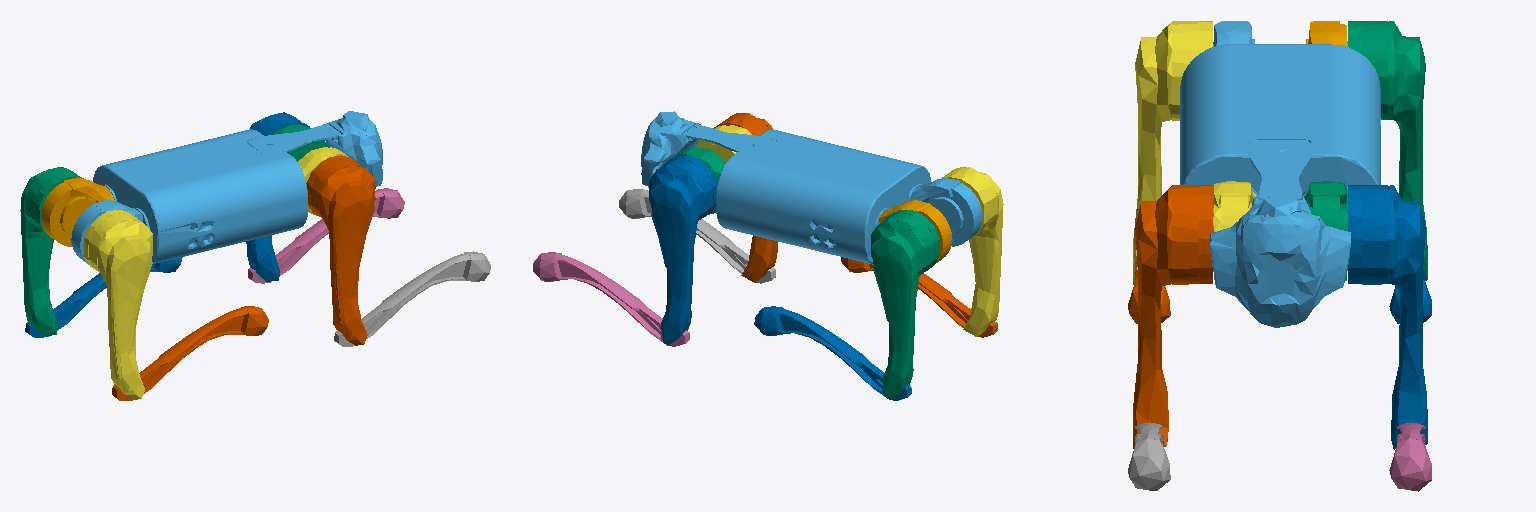
--- Facts derived from the render (not from the file) ---
Views: 3 orthographic renders of the robot side by side, from view 1: azimuth 30°, elevation 25°; view 2: azimuth 150°, elevation 25°; view 3: azimuth 270°, elevation 25°.
Robot: go1 — 31 links, 30 joints (12 revolute, 18 fixed); root link base; default pose: all joints at 0 but 4 set to mid-range because 0 is outside their limits (FR_calf_joint = -1.85, FL_calf_joint = -1.85, RR_calf_joint = -1.85, RL_calf_joint = -1.85).
Links seen in each view (by area): view 1: trunk, RR_thigh, FR_thigh, RL_thigh, FR_calf, RR_calf, RL_hip, FL_calf, FL_thigh, RL_calf, RR_hip, FR_hip (+1 smaller); view 2: trunk, RL_thigh, FL_thigh, RR_thigh, FL_calf, RL_calf, RR_hip, FR_calf, FR_thigh, RR_calf, RL_hip, FL_hip (+1 smaller); view 3: trunk, FL_thigh, FR_thigh, RL_thigh, RR_thigh, FR_calf, FL_calf, FL_hip, FR_hip, RR_hip, RL_hip, RR_calf (+1 smaller).
Link boxes in pixels (x1,y1,x2,y2): trunk: (93, 111, 382, 263); RR_thigh: (84, 210, 152, 399); FR_thigh: (306, 155, 375, 345); RL_thigh: (20, 167, 83, 335); FR_calf: (334, 251, 490, 346); RR_calf: (112, 306, 268, 400); RL_hip: (41, 177, 114, 246); FL_calf: (248, 188, 404, 283); FL_thigh: (246, 112, 310, 281); RL_calf: (25, 257, 182, 337); RR_hip: (71, 200, 142, 264); FR_hip: (298, 147, 348, 215); trunk: (641, 111, 930, 264); RL_thigh: (871, 210, 939, 399); FL_thigh: (649, 156, 716, 345); RR_thigh: (941, 167, 1003, 336); FL_calf: (533, 252, 689, 346); RL_calf: (754, 306, 911, 400); RR_hip: (910, 178, 982, 246); FR_calf: (619, 189, 775, 283); FR_thigh: (713, 113, 777, 282); RR_calf: (841, 257, 997, 337); RL_hip: (879, 200, 951, 262); FL_hip: (674, 147, 725, 214); trunk: (1180, 44, 1380, 327); FL_thigh: (1348, 185, 1427, 449); FR_thigh: (1133, 185, 1212, 448); RL_thigh: (1348, 21, 1427, 280); RR_thigh: (1133, 21, 1212, 284); FR_calf: (1128, 423, 1170, 490); FL_calf: (1389, 423, 1431, 491); FL_hip: (1304, 181, 1347, 280); FR_hip: (1213, 181, 1258, 279); RR_hip: (1213, 21, 1254, 46); RL_hip: (1306, 21, 1347, 46); RR_calf: (1128, 262, 1170, 323).
Bounding box of the posed robot: 0.6505 × 0.2952 × 0.302 m (x, y, z).
Meshes: 5 distinct files referenced, 13 mesh visuals loaded (5 Collada DAE).

robot.urdf — go1:
<?xml version="1.0" ?>
<!-- source: https://github.com/unitreerobotics/unitree_ros/tree/master/robots/go1_description/urdf
=================================================================================== -->
<!-- |    This document was autogenerated by xacro from robot.xacro                    | -->
<!-- |    EDITING THIS FILE BY HAND IS NOT RECOMMENDED                                 | -->
<!-- =================================================================================== -->
<robot name="go1">
  <material name="black">
    <color rgba="0.0 0.0 0.0 1.0"/>
  </material>
  <material name="blue">
    <color rgba="0.0 0.0 0.8 1.0"/>
  </material>
  <material name="green">
    <color rgba="0.0 0.8 0.0 1.0"/>
  </material>
  <material name="grey">
    <color rgba="0.2 0.2 0.2 1.0"/>
  </material>
  <material name="silver">
    <color rgba="0.9137254901960784 0.9137254901960784 0.8470588235294118 1.0"/>
  </material>
  <material name="orange">
    <color rgba="1.0 0.4235294117647059 0.0392156862745098 1.0"/>
  </material>
  <material name="brown">
    <color rgba="0.8705882352941177 0.8117647058823529 0.7647058823529411 1.0"/>
  </material>
  <material name="red">
    <color rgba="0.8 0.0 0.0 1.0"/>
  </material>
  <material name="white">
    <color rgba="1.0 1.0 1.0 1.0"/>
  </material>

<!--Flo: removed the Gazebo-related section here-->

  <link name="base">
    <visual>
      <origin rpy="0 0 0" xyz="0 0 0"/>
      <geometry>
        <box size="0.001 0.001 0.001"/>
      </geometry>
    </visual>
  </link>
  <joint name="floating_base" type="fixed">
    <origin rpy="0 0 0" xyz="0 0 0"/>
    <parent link="base"/>
    <child link="trunk"/>
  </joint>
  <link name="trunk">
    <visual>
      <origin rpy="0 0 0" xyz="0 0 0"/>
      <geometry>
        <mesh filename="../meshes/trunk.dae" scale="1 1 1"/>
      </geometry>
      <!-- <material name="orange"/> -->
    </visual>
    <collision>
      <origin rpy="0 0 0" xyz="0 0 0"/>
      <geometry>
        <box size="0.3762 0.0935 0.114"/>
      </geometry>
    </collision>
    <inertial>
      <origin rpy="0 0 0" xyz="0.0223 0.002 -0.0005"/>
      <mass value="5.204"/>
      <inertia ixx="0.0168128557" ixy="-0.0002296769" ixz="-0.0002945293" iyy="0.063009565" iyz="-4.18731e-05" izz="0.0716547275"/>
    </inertial>
  </link>
  <joint name="imu_joint" type="fixed">
    <parent link="trunk"/>
    <child link="imu_link"/>
    <origin rpy="0 0 0" xyz="-0.01592 -0.06659 -0.00617"/>
  </joint>
  <link name="imu_link">
    <inertial>
      <mass value="0.001"/>
      <origin rpy="0 0 0" xyz="0 0 0"/>
      <inertia ixx="0.0001" ixy="0" ixz="0" iyy="0.0001" iyz="0" izz="0.0001"/>
    </inertial>
    <visual>
      <origin rpy="0 0 0" xyz="0 0 0"/>
      <geometry>
        <box size="0.001 0.001 0.001"/>
      </geometry>
      <!-- <material name="red"/> -->
    </visual>
    <collision>
      <origin rpy="0 0 0" xyz="0 0 0"/>
      <geometry>
        <box size=".001 .001 .001"/>
      </geometry>
    </collision>
  </link>
  <joint name="FR_hip_joint" type="revolute">
    <origin rpy="0 0 0" xyz="0.1881 -0.04675 0"/>
    <parent link="trunk"/>
    <child link="FR_hip"/>
    <axis xyz="1 0 0"/>
    <dynamics damping="0.01" friction="0.2"/>
    <limit effort="23.7" lower="-0.863" upper="0.863" velocity="30.1"/>
  </joint>
  <joint name="FR_hip_rotor_joint" type="fixed">
    <origin rpy="0 0 0" xyz="0.11215 -0.04675 0"/>
    <parent link="trunk"/>
    <child link="FR_hip_rotor"/>
  </joint>
  <link name="FR_hip">
    <visual>
      <origin rpy="3.141592653589793 0 0" xyz="0 0 0"/>
      <geometry>
        <mesh filename="../meshes/hip.dae" scale="1 1 1"/>
      </geometry>
      <!-- <material name="orange"/> -->
    </visual>
    <collision>
      <origin rpy="1.5707963267948966 0 0" xyz="0 -0.08 0"/>
      <geometry>
        <cylinder length="0.04" radius="0.046"/>
      </geometry>
    </collision>
    <inertial>
      <origin rpy="0 0 0" xyz="-0.005657 0.008752 -0.000102"/>
      <mass value="0.591"/>
      <inertia ixx="0.000334008405" ixy="1.0826066e-05" ixz="1.290732e-06" iyy="0.000619101213" iyz="-1.643194e-06" izz="0.00040057614"/>
    </inertial>
  </link>
  <link name="FR_hip_rotor">
    <visual>
      <origin rpy="0 1.5707963267948966 0" xyz="0 0 0"/>
      <geometry>
        <cylinder length="0.02" radius="0.035"/>
      </geometry>
      <material name="green"/>
    </visual>
    <collision>
      <origin rpy="0 1.5707963267948966 0" xyz="0 0 0"/>
      <geometry>
        <cylinder length="0.02" radius="0.035"/>
      </geometry>
    </collision>
    <inertial>
      <origin rpy="0 0 0" xyz="0.0 0.0 0.0"/>
      <mass value="0.089"/>
      <inertia ixx="0.000111842" ixy="0.0" ixz="0.0" iyy="5.9647e-05" iyz="0.0" izz="5.9647e-05"/>
    </inertial>
  </link>
  <joint name="FR_thigh_joint" type="revolute">
    <origin rpy="0 0 0" xyz="0 -0.08 0"/>
    <parent link="FR_hip"/>
    <child link="FR_thigh"/>
    <axis xyz="0 1 0"/>
    <dynamics damping="0.01" friction="0.2"/>
    <limit effort="23.7" lower="-0.686" upper="4.501" velocity="30.1"/>
  </joint>
  <joint name="FR_thigh_rotor_joint" type="fixed">
    <origin rpy="0 0 0" xyz="0.0 0.00015 0"/>
    <parent link="FR_hip"/>
    <child link="FR_thigh_rotor"/>
  </joint>
  <link name="FR_thigh">
    <visual>
      <origin rpy="0 0 0" xyz="0 0 0"/>
      <geometry>
        <mesh filename="../meshes/thigh_mirror.dae" scale="1 1 1"/>
      </geometry>
      <!-- <material name="orange"/> -->
    </visual>
    <collision>
      <origin rpy="0 1.5707963267948966 0" xyz="0 0 -0.1065"/>
      <geometry>
        <box size="0.213 0.0245 0.034"/>
      </geometry>
    </collision>
    <inertial>
      <origin rpy="0 0 0" xyz="-0.003342 0.018054 -0.033451"/>
      <mass value="0.92"/>
      <inertia ixx="0.004431760472" ixy="-5.7496807e-05" ixz="-0.000218457134" iyy="0.004485671726" iyz="-0.000572001265" izz="0.000740309489"/>
    </inertial>
  </link>
  <link name="FR_thigh_rotor">
    <visual>
      <origin rpy="1.5707963267948966 0 0" xyz="0 0 0"/>
      <geometry>
        <cylinder length="0.02" radius="0.035"/>
      </geometry>
      <material name="green"/>
    </visual>
    <collision>
      <origin rpy="1.5707963267948966 0 0" xyz="0 0 0"/>
      <geometry>
        <cylinder length="0.02" radius="0.035"/>
      </geometry>
    </collision>
    <inertial>
      <origin rpy="0 0 0" xyz="0.0 0.0 0.0"/>
      <mass value="0.089"/>
      <inertia ixx="5.9647e-05" ixy="0.0" ixz="0.0" iyy="0.000111842" iyz="0.0" izz="5.9647e-05"/>
    </inertial>
  </link>
  <joint name="FR_calf_joint" type="revolute">
    <origin rpy="0 0 0" xyz="0 0 -0.213"/>
    <parent link="FR_thigh"/>
    <child link="FR_calf"/>
    <axis xyz="0 1 0"/>
    <dynamics damping="0.01" friction="0.2"/>
    <limit effort="35.55" lower="-2.818" upper="-0.888" velocity="20.06"/>
  </joint>
  <joint name="FR_calf_rotor_joint" type="fixed">
    <origin rpy="0 0 0" xyz="0.0 0.03235 0"/>
    <parent link="FR_thigh"/>
    <child link="FR_calf_rotor"/>
  </joint>
  <link name="FR_calf">
    <visual>
      <origin rpy="0 0 0" xyz="0 0 0"/>
      <geometry>
        <mesh filename="../meshes/calf.dae" scale="1 1 1"/>
      </geometry>
      <!-- <material name="orange"/> -->
    </visual>
    <collision>
      <origin rpy="0 1.5707963267948966 0" xyz="0 0 -0.1065"/>
      <geometry>
        <box size="0.213 0.016 0.016"/>
      </geometry>
    </collision>
    <inertial>
      <origin rpy="0 0 0" xyz="0.006197 0.001408 -0.116695"/>
      <mass value="0.135862"/>
      <inertia ixx="0.001088793059" ixy="-2.55679e-07" ixz="7.117814e-06" iyy="0.001100428748" iyz="2.077264e-06" izz="2.4787446e-05"/>
    </inertial>
  </link>
  <link name="FR_calf_rotor">
    <visual>
      <origin rpy="1.5707963267948966 0 0" xyz="0 0 0"/>
      <geometry>
        <cylinder length="0.02" radius="0.035"/>
      </geometry>
      <material name="green"/>
    </visual>
    <collision>
      <origin rpy="1.5707963267948966 0 0" xyz="0 0 0"/>
      <geometry>
        <cylinder length="0.02" radius="0.035"/>
      </geometry>
    </collision>
    <inertial>
      <origin rpy="0 0 0" xyz="0.0 0.0 0.0"/>
      <mass value="0.089"/>
      <inertia ixx="5.9647e-05" ixy="0.0" ixz="0.0" iyy="0.000111842" iyz="0.0" izz="5.9647e-05"/>
    </inertial>
  </link>
  <joint name="FR_foot_fixed" type="fixed">
    <origin rpy="0 0 0" xyz="0 0 -0.213"/>
    <parent link="FR_calf"/>
    <child link="FR_foot"/>
  </joint>
  <link name="FR_foot">
    <visual>
      <origin rpy="0 0 0" xyz="0 0 0"/>
      <geometry>
        <sphere radius="0.01"/>
      </geometry>
      <!-- <material name="orange"/> -->
    </visual>
    <collision>
      <origin rpy="0 0 0" xyz="0 0 0"/>
      <geometry>
        <sphere radius="0.02"/>
      </geometry>
    </collision>
    <inertial>
      <mass value="0.06"/>
      <inertia ixx="9.600000000000001e-06" ixy="0.0" ixz="0.0" iyy="9.600000000000001e-06" iyz="0.0" izz="9.600000000000001e-06"/>
    </inertial>
  </link>
  <transmission name="FR_hip_tran">
    <type>transmission_interface/SimpleTransmission</type>
    <joint name="FR_hip_joint">
      <hardwareInterface>hardware_interface/EffortJointInterface</hardwareInterface>
    </joint>
    <actuator name="FR_hip_motor">
      <hardwareInterface>hardware_interface/EffortJointInterface</hardwareInterface>
      <mechanicalReduction>1</mechanicalReduction>
    </actuator>
  </transmission>
  <transmission name="FR_thigh_tran">
    <type>transmission_interface/SimpleTransmission</type>
    <joint name="FR_thigh_joint">
      <hardwareInterface>hardware_interface/EffortJointInterface</hardwareInterface>
    </joint>
    <actuator name="FR_thigh_motor">
      <hardwareInterface>hardware_interface/EffortJointInterface</hardwareInterface>
      <mechanicalReduction>1</mechanicalReduction>
    </actuator>
  </transmission>
  <transmission name="FR_calf_tran">
    <type>transmission_interface/SimpleTransmission</type>
    <joint name="FR_calf_joint">
      <hardwareInterface>hardware_interface/EffortJointInterface</hardwareInterface>
    </joint>
    <actuator name="FR_calf_motor">
      <hardwareInterface>hardware_interface/EffortJointInterface</hardwareInterface>
      <mechanicalReduction>1</mechanicalReduction>
    </actuator>
  </transmission>
  <joint name="FL_hip_joint" type="revolute">
    <origin rpy="0 0 0" xyz="0.1881 0.04675 0"/>
    <parent link="trunk"/>
    <child link="FL_hip"/>
    <axis xyz="1 0 0"/>
    <dynamics damping="0.01" friction="0.2"/>
    <limit effort="23.7" lower="-0.863" upper="0.863" velocity="30.1"/>
  </joint>
  <joint name="FL_hip_rotor_joint" type="fixed">
    <origin rpy="0 0 0" xyz="0.11215 0.04675 0"/>
    <parent link="trunk"/>
    <child link="FL_hip_rotor"/>
  </joint>
  <link name="FL_hip">
    <visual>
      <origin rpy="0 0 0" xyz="0 0 0"/>
      <geometry>
        <mesh filename="../meshes/hip.dae" scale="1 1 1"/>
      </geometry>
      <!-- <material name="orange"/> -->
    </visual>
    <collision>
      <origin rpy="1.5707963267948966 0 0" xyz="0 0.08 0"/>
      <geometry>
        <cylinder length="0.04" radius="0.046"/>
      </geometry>
    </collision>
    <inertial>
      <origin rpy="0 0 0" xyz="-0.005657 -0.008752 -0.000102"/>
      <mass value="0.591"/>
      <inertia ixx="0.000334008405" ixy="-1.0826066e-05" ixz="1.290732e-06" iyy="0.000619101213" iyz="1.643194e-06" izz="0.00040057614"/>
    </inertial>
  </link>
  <link name="FL_hip_rotor">
    <visual>
      <origin rpy="0 1.5707963267948966 0" xyz="0 0 0"/>
      <geometry>
        <cylinder length="0.02" radius="0.035"/>
      </geometry>
      <material name="green"/>
    </visual>
    <collision>
      <origin rpy="0 1.5707963267948966 0" xyz="0 0 0"/>
      <geometry>
        <cylinder length="0.02" radius="0.035"/>
      </geometry>
    </collision>
    <inertial>
      <origin rpy="0 0 0" xyz="0.0 0.0 0.0"/>
      <mass value="0.089"/>
      <inertia ixx="0.000111842" ixy="0.0" ixz="0.0" iyy="5.9647e-05" iyz="0.0" izz="5.9647e-05"/>
    </inertial>
  </link>
  <joint name="FL_thigh_joint" type="revolute">
    <origin rpy="0 0 0" xyz="0 0.08 0"/>
    <parent link="FL_hip"/>
    <child link="FL_thigh"/>
    <axis xyz="0 1 0"/>
    <dynamics damping="0.01" friction="0.2"/>
    <limit effort="23.7" lower="-0.686" upper="4.501" velocity="30.1"/>
  </joint>
  <joint name="FL_thigh_rotor_joint" type="fixed">
    <origin rpy="0 0 0" xyz="0.0 -0.00015 0"/>
    <parent link="FL_hip"/>
    <child link="FL_thigh_rotor"/>
  </joint>
  <link name="FL_thigh">
    <visual>
      <origin rpy="0 0 0" xyz="0 0 0"/>
      <geometry>
        <mesh filename="../meshes/thigh.dae" scale="1 1 1"/>
      </geometry>
      <!-- <material name="orange"/> -->
    </visual>
    <collision>
      <origin rpy="0 1.5707963267948966 0" xyz="0 0 -0.1065"/>
      <geometry>
        <box size="0.213 0.0245 0.034"/>
      </geometry>
    </collision>
    <inertial>
      <origin rpy="0 0 0" xyz="-0.003342 -0.018054 -0.033451"/>
      <mass value="0.92"/>
      <inertia ixx="0.004431760472" ixy="5.7496807e-05" ixz="-0.000218457134" iyy="0.004485671726" iyz="0.000572001265" izz="0.000740309489"/>
    </inertial>
  </link>
  <link name="FL_thigh_rotor">
    <visual>
      <origin rpy="1.5707963267948966 0 0" xyz="0 0 0"/>
      <geometry>
        <cylinder length="0.02" radius="0.035"/>
      </geometry>
      <material name="green"/>
    </visual>
    <collision>
      <origin rpy="1.5707963267948966 0 0" xyz="0 0 0"/>
      <geometry>
        <cylinder length="0.02" radius="0.035"/>
      </geometry>
    </collision>
    <inertial>
      <origin rpy="0 0 0" xyz="0.0 0.0 0.0"/>
      <mass value="0.089"/>
      <inertia ixx="5.9647e-05" ixy="0.0" ixz="0.0" iyy="0.000111842" iyz="0.0" izz="5.9647e-05"/>
    </inertial>
  </link>
  <joint name="FL_calf_joint" type="revolute">
    <origin rpy="0 0 0" xyz="0 0 -0.213"/>
    <parent link="FL_thigh"/>
    <child link="FL_calf"/>
    <axis xyz="0 1 0"/>
    <dynamics damping="0.01" friction="0.2"/>
    <limit effort="35.55" lower="-2.818" upper="-0.888" velocity="20.06"/>
  </joint>
  <joint name="FL_calf_rotor_joint" type="fixed">
    <origin rpy="0 0 0" xyz="0.0 -0.03235 0"/>
    <parent link="FL_thigh"/>
    <child link="FL_calf_rotor"/>
  </joint>
  <link name="FL_calf">
    <visual>
      <origin rpy="0 0 0" xyz="0 0 0"/>
      <geometry>
        <mesh filename="../meshes/calf.dae" scale="1 1 1"/>
      </geometry>
      <!-- <material name="orange"/> -->
    </visual>
    <collision>
      <origin rpy="0 1.5707963267948966 0" xyz="0 0 -0.1065"/>
      <geometry>
        <box size="0.213 0.016 0.016"/>
      </geometry>
    </collision>
    <inertial>
      <origin rpy="0 0 0" xyz="0.006197 0.001408 -0.116695"/>
      <mass value="0.135862"/>
      <inertia ixx="0.001088793059" ixy="-2.55679e-07" ixz="7.117814e-06" iyy="0.001100428748" iyz="2.077264e-06" izz="2.4787446e-05"/>
    </inertial>
  </link>
  <link name="FL_calf_rotor">
    <visual>
      <origin rpy="1.5707963267948966 0 0" xyz="0 0 0"/>
      <geometry>
        <cylinder length="0.02" radius="0.035"/>
      </geometry>
      <material name="green"/>
    </visual>
    <collision>
      <origin rpy="1.5707963267948966 0 0" xyz="0 0 0"/>
      <geometry>
        <cylinder length="0.02" radius="0.035"/>
      </geometry>
    </collision>
    <inertial>
      <origin rpy="0 0 0" xyz="0.0 0.0 0.0"/>
      <mass value="0.089"/>
      <inertia ixx="5.9647e-05" ixy="0.0" ixz="0.0" iyy="0.000111842" iyz="0.0" izz="5.9647e-05"/>
    </inertial>
  </link>
  <joint name="FL_foot_fixed" type="fixed">
    <origin rpy="0 0 0" xyz="0 0 -0.213"/>
    <parent link="FL_calf"/>
    <child link="FL_foot"/>
  </joint>
  <link name="FL_foot">
    <visual>
      <origin rpy="0 0 0" xyz="0 0 0"/>
      <geometry>
        <sphere radius="0.01"/>
      </geometry>
      <!-- <material name="orange"/> -->
    </visual>
    <collision>
      <origin rpy="0 0 0" xyz="0 0 0"/>
      <geometry>
        <sphere radius="0.02"/>
      </geometry>
    </collision>
    <inertial>
      <mass value="0.06"/>
      <inertia ixx="9.600000000000001e-06" ixy="0.0" ixz="0.0" iyy="9.600000000000001e-06" iyz="0.0" izz="9.600000000000001e-06"/>
    </inertial>
  </link>
  <transmission name="FL_hip_tran">
    <type>transmission_interface/SimpleTransmission</type>
    <joint name="FL_hip_joint">
      <hardwareInterface>hardware_interface/EffortJointInterface</hardwareInterface>
    </joint>
    <actuator name="FL_hip_motor">
      <hardwareInterface>hardware_interface/EffortJointInterface</hardwareInterface>
      <mechanicalReduction>1</mechanicalReduction>
    </actuator>
  </transmission>
  <transmission name="FL_thigh_tran">
    <type>transmission_interface/SimpleTransmission</type>
    <joint name="FL_thigh_joint">
      <hardwareInterface>hardware_interface/EffortJointInterface</hardwareInterface>
    </joint>
    <actuator name="FL_thigh_motor">
      <hardwareInterface>hardware_interface/EffortJointInterface</hardwareInterface>
      <mechanicalReduction>1</mechanicalReduction>
    </actuator>
  </transmission>
  <transmission name="FL_calf_tran">
    <type>transmission_interface/SimpleTransmission</type>
    <joint name="FL_calf_joint">
      <hardwareInterface>hardware_interface/EffortJointInterface</hardwareInterface>
    </joint>
    <actuator name="FL_calf_motor">
      <hardwareInterface>hardware_interface/EffortJointInterface</hardwareInterface>
      <mechanicalReduction>1</mechanicalReduction>
    </actuator>
  </transmission>
  <joint name="RR_hip_joint" type="revolute">
    <origin rpy="0 0 0" xyz="-0.1881 -0.04675 0"/>
    <parent link="trunk"/>
    <child link="RR_hip"/>
    <axis xyz="1 0 0"/>
    <dynamics damping="0.01" friction="0.2"/>
    <limit effort="23.7" lower="-0.863" upper="0.863" velocity="30.1"/>
  </joint>
  <joint name="RR_hip_rotor_joint" type="fixed">
    <origin rpy="0 0 0" xyz="-0.11215 -0.04675 0"/>
    <parent link="trunk"/>
    <child link="RR_hip_rotor"/>
  </joint>
  <link name="RR_hip">
    <visual>
      <origin rpy="3.141592653589793 3.141592653589793 0" xyz="0 0 0"/>
      <geometry>
        <mesh filename="../meshes/hip.dae" scale="1 1 1"/>
      </geometry>
      <!-- <material name="orange"/> -->
    </visual>
    <collision>
      <origin rpy="1.5707963267948966 0 0" xyz="0 -0.08 0"/>
      <geometry>
        <cylinder length="0.04" radius="0.046"/>
      </geometry>
    </collision>
    <inertial>
      <origin rpy="0 0 0" xyz="0.005657 0.008752 -0.000102"/>
      <mass value="0.591"/>
      <inertia ixx="0.000334008405" ixy="-1.0826066e-05" ixz="-1.290732e-06" iyy="0.000619101213" iyz="-1.643194e-06" izz="0.00040057614"/>
    </inertial>
  </link>
  <link name="RR_hip_rotor">
    <visual>
      <origin rpy="0 1.5707963267948966 0" xyz="0 0 0"/>
      <geometry>
        <cylinder length="0.02" radius="0.035"/>
      </geometry>
      <material name="green"/>
    </visual>
    <collision>
      <origin rpy="0 1.5707963267948966 0" xyz="0 0 0"/>
      <geometry>
        <cylinder length="0.02" radius="0.035"/>
      </geometry>
    </collision>
    <inertial>
      <origin rpy="0 0 0" xyz="0.0 0.0 0.0"/>
      <mass value="0.089"/>
      <inertia ixx="0.000111842" ixy="0.0" ixz="0.0" iyy="5.9647e-05" iyz="0.0" izz="5.9647e-05"/>
    </inertial>
  </link>
  <joint name="RR_thigh_joint" type="revolute">
    <origin rpy="0 0 0" xyz="0 -0.08 0"/>
    <parent link="RR_hip"/>
    <child link="RR_thigh"/>
    <axis xyz="0 1 0"/>
    <dynamics damping="0.01" friction="0.2"/>
    <limit effort="23.7" lower="-0.686" upper="4.501" velocity="30.1"/>
  </joint>
  <joint name="RR_thigh_rotor_joint" type="fixed">
    <origin rpy="0 0 0" xyz="0.0 0.00015 0"/>
    <parent link="RR_hip"/>
    <child link="RR_thigh_rotor"/>
  </joint>
  <link name="RR_thigh">
    <visual>
      <origin rpy="0 0 0" xyz="0 0 0"/>
      <geometry>
        <mesh filename="../meshes/thigh_mirror.dae" scale="1 1 1"/>
      </geometry>
      <!-- <material name="orange"/> -->
    </visual>
    <collision>
      <origin rpy="0 1.5707963267948966 0" xyz="0 0 -0.1065"/>
      <geometry>
        <box size="0.213 0.0245 0.034"/>
      </geometry>
    </collision>
    <inertial>
      <origin rpy="0 0 0" xyz="-0.003342 0.018054 -0.033451"/>
      <mass value="0.92"/>
      <inertia ixx="0.004431760472" ixy="-5.7496807e-05" ixz="-0.000218457134" iyy="0.004485671726" iyz="-0.000572001265" izz="0.000740309489"/>
    </inertial>
  </link>
  <link name="RR_thigh_rotor">
    <visual>
      <origin rpy="1.5707963267948966 0 0" xyz="0 0 0"/>
      <geometry>
        <cylinder length="0.02" radius="0.035"/>
      </geometry>
      <material name="green"/>
    </visual>
    <collision>
      <origin rpy="1.5707963267948966 0 0" xyz="0 0 0"/>
      <geometry>
        <cylinder length="0.02" radius="0.035"/>
      </geometry>
    </collision>
    <inertial>
      <origin rpy="0 0 0" xyz="0.0 0.0 0.0"/>
      <mass value="0.089"/>
      <inertia ixx="5.9647e-05" ixy="0.0" ixz="0.0" iyy="0.000111842" iyz="0.0" izz="5.9647e-05"/>
    </inertial>
  </link>
  <joint name="RR_calf_joint" type="revolute">
    <origin rpy="0 0 0" xyz="0 0 -0.213"/>
    <parent link="RR_thigh"/>
    <child link="RR_calf"/>
    <axis xyz="0 1 0"/>
    <dynamics damping="0.01" friction="0.2"/>
    <limit effort="35.55" lower="-2.818" upper="-0.888" velocity="20.06"/>
  </joint>
  <joint name="RR_calf_rotor_joint" type="fixed">
    <origin rpy="0 0 0" xyz="0.0 0.03235 0"/>
    <parent link="RR_thigh"/>
    <child link="RR_calf_rotor"/>
  </joint>
  <link name="RR_calf">
    <visual>
      <origin rpy="0 0 0" xyz="0 0 0"/>
      <geometry>
        <mesh filename="../meshes/calf.dae" scale="1 1 1"/>
      </geometry>
      <!-- <material name="orange"/> -->
    </visual>
    <collision>
      <origin rpy="0 1.5707963267948966 0" xyz="0 0 -0.1065"/>
      <geometry>
        <box size="0.213 0.016 0.016"/>
      </geometry>
    </collision>
    <inertial>
      <origin rpy="0 0 0" xyz="0.006197 0.001408 -0.116695"/>
      <mass value="0.135862"/>
      <inertia ixx="0.001088793059" ixy="-2.55679e-07" ixz="7.117814e-06" iyy="0.001100428748" iyz="2.077264e-06" izz="2.4787446e-05"/>
    </inertial>
  </link>
  <link name="RR_calf_rotor">
    <visual>
      <origin rpy="1.5707963267948966 0 0" xyz="0 0 0"/>
      <geometry>
        <cylinder length="0.02" radius="0.035"/>
      </geometry>
      <material name="green"/>
    </visual>
    <collision>
      <origin rpy="1.5707963267948966 0 0" xyz="0 0 0"/>
      <geometry>
        <cylinder length="0.02" radius="0.035"/>
      </geometry>
    </collision>
    <inertial>
      <origin rpy="0 0 0" xyz="0.0 0.0 0.0"/>
      <mass value="0.089"/>
      <inertia ixx="5.9647e-05" ixy="0.0" ixz="0.0" iyy="0.000111842" iyz="0.0" izz="5.9647e-05"/>
    </inertial>
  </link>
  <joint name="RR_foot_fixed" type="fixed">
    <origin rpy="0 0 0" xyz="0 0 -0.213"/>
    <parent link="RR_calf"/>
    <child link="RR_foot"/>
  </joint>
  <link name="RR_foot">
    <visual>
      <origin rpy="0 0 0" xyz="0 0 0"/>
      <geometry>
        <sphere radius="0.01"/>
      </geometry>
      <!-- <material name="orange"/> -->
    </visual>
    <collision>
      <origin rpy="0 0 0" xyz="0 0 0"/>
      <geometry>
        <sphere radius="0.02"/>
      </geometry>
    </collision>
    <inertial>
      <mass value="0.06"/>
      <inertia ixx="9.600000000000001e-06" ixy="0.0" ixz="0.0" iyy="9.600000000000001e-06" iyz="0.0" izz="9.600000000000001e-06"/>
    </inertial>
  </link>
  <transmission name="RR_hip_tran">
    <type>transmission_interface/SimpleTransmission</type>
    <joint name="RR_hip_joint">
      <hardwareInterface>hardware_interface/EffortJointInterface</hardwareInterface>
    </joint>
    <actuator name="RR_hip_motor">
      <hardwareInterface>hardware_interface/EffortJointInterface</hardwareInterface>
      <mechanicalReduction>1</mechanicalReduction>
    </actuator>
  </transmission>
  <transmission name="RR_thigh_tran">
    <type>transmission_interface/SimpleTransmission</type>
    <joint name="RR_thigh_joint">
      <hardwareInterface>hardware_interface/EffortJointInterface</hardwareInterface>
    </joint>
    <actuator name="RR_thigh_motor">
      <hardwareInterface>hardware_interface/EffortJointInterface</hardwareInterface>
      <mechanicalReduction>1</mechanicalReduction>
    </actuator>
  </transmission>
  <transmission name="RR_calf_tran">
    <type>transmission_interface/SimpleTransmission</type>
    <joint name="RR_calf_joint">
      <hardwareInterface>hardware_interface/EffortJointInterface</hardwareInterface>
    </joint>
    <actuator name="RR_calf_motor">
      <hardwareInterface>hardware_interface/EffortJointInterface</hardwareInterface>
      <mechanicalReduction>1</mechanicalReduction>
    </actuator>
  </transmission>
  <joint name="RL_hip_joint" type="revolute">
    <origin rpy="0 0 0" xyz="-0.1881 0.04675 0"/>
    <parent link="trunk"/>
    <child link="RL_hip"/>
    <axis xyz="1 0 0"/>
    <dynamics damping="0.01" friction="0.2"/>
    <limit effort="23.7" lower="-0.863" upper="0.863" velocity="30.1"/>
  </joint>
  <joint name="RL_hip_rotor_joint" type="fixed">
    <origin rpy="0 0 0" xyz="-0.11215 0.04675 0"/>
    <parent link="trunk"/>
    <child link="RL_hip_rotor"/>
  </joint>
  <link name="RL_hip">
    <visual>
      <origin rpy="0 3.141592653589793 0" xyz="0 0 0"/>
      <geometry>
        <mesh filename="../meshes/hip.dae" scale="1 1 1"/>
      </geometry>
      <!-- <material name="orange"/> -->
    </visual>
    <collision>
      <origin rpy="1.5707963267948966 0 0" xyz="0 0.08 0"/>
      <geometry>
        <cylinder length="0.04" radius="0.046"/>
      </geometry>
    </collision>
    <inertial>
      <origin rpy="0 0 0" xyz="0.005657 -0.008752 -0.000102"/>
      <mass value="0.591"/>
      <inertia ixx="0.000334008405" ixy="1.0826066e-05" ixz="-1.290732e-06" iyy="0.000619101213" iyz="1.643194e-06" izz="0.00040057614"/>
    </inertial>
  </link>
  <link name="RL_hip_rotor">
    <visual>
      <origin rpy="0 1.5707963267948966 0" xyz="0 0 0"/>
      <geometry>
        <cylinder length="0.02" radius="0.035"/>
      </geometry>
      <material name="green"/>
    </visual>
    <collision>
      <origin rpy="0 1.5707963267948966 0" xyz="0 0 0"/>
      <geometry>
        <cylinder length="0.02" radius="0.035"/>
      </geometry>
    </collision>
    <inertial>
      <origin rpy="0 0 0" xyz="0.0 0.0 0.0"/>
      <mass value="0.089"/>
      <inertia ixx="0.000111842" ixy="0.0" ixz="0.0" iyy="5.9647e-05" iyz="0.0" izz="5.9647e-05"/>
    </inertial>
  </link>
  <joint name="RL_thigh_joint" type="revolute">
    <origin rpy="0 0 0" xyz="0 0.08 0"/>
    <parent link="RL_hip"/>
    <child link="RL_thigh"/>
    <axis xyz="0 1 0"/>
    <dynamics damping="0.01" friction="0.2"/>
    <limit effort="23.7" lower="-0.686" upper="4.501" velocity="30.1"/>
  </joint>
  <joint name="RL_thigh_rotor_joint" type="fixed">
    <origin rpy="0 0 0" xyz="0.0 -0.00015 0"/>
    <parent link="RL_hip"/>
    <child link="RL_thigh_rotor"/>
  </joint>
  <link name="RL_thigh">
    <visual>
      <origin rpy="0 0 0" xyz="0 0 0"/>
      <geometry>
        <mesh filename="../meshes/thigh.dae" scale="1 1 1"/>
      </geometry>
      <!-- <material name="orange"/> -->
    </visual>
    <collision>
      <origin rpy="0 1.5707963267948966 0" xyz="0 0 -0.1065"/>
      <geometry>
        <box size="0.213 0.0245 0.034"/>
      </geometry>
    </collision>
    <inertial>
      <origin rpy="0 0 0" xyz="-0.003342 -0.018054 -0.033451"/>
      <mass value="0.92"/>
      <inertia ixx="0.004431760472" ixy="5.7496807e-05" ixz="-0.000218457134" iyy="0.004485671726" iyz="0.000572001265" izz="0.000740309489"/>
    </inertial>
  </link>
  <link name="RL_thigh_rotor">
    <visual>
      <origin rpy="1.5707963267948966 0 0" xyz="0 0 0"/>
      <geometry>
        <cylinder length="0.02" radius="0.035"/>
      </geometry>
      <material name="green"/>
    </visual>
    <collision>
      <origin rpy="1.5707963267948966 0 0" xyz="0 0 0"/>
      <geometry>
        <cylinder length="0.02" radius="0.035"/>
      </geometry>
    </collision>
    <inertial>
      <origin rpy="0 0 0" xyz="0.0 0.0 0.0"/>
      <mass value="0.089"/>
      <inertia ixx="5.9647e-05" ixy="0.0" ixz="0.0" iyy="0.000111842" iyz="0.0" izz="5.9647e-05"/>
    </inertial>
  </link>
  <joint name="RL_calf_joint" type="revolute">
    <origin rpy="0 0 0" xyz="0 0 -0.213"/>
    <parent link="RL_thigh"/>
    <child link="RL_calf"/>
    <axis xyz="0 1 0"/>
    <dynamics damping="0.01" friction="0.2"/>
    <limit effort="35.55" lower="-2.818" upper="-0.888" velocity="20.06"/>
  </joint>
  <joint name="RL_calf_rotor_joint" type="fixed">
    <origin rpy="0 0 0" xyz="0.0 -0.03235 0"/>
    <parent link="RL_thigh"/>
    <child link="RL_calf_rotor"/>
  </joint>
  <link name="RL_calf">
    <visual>
      <origin rpy="0 0 0" xyz="0 0 0"/>
      <geometry>
        <mesh filename="../meshes/calf.dae" scale="1 1 1"/>
      </geometry>
      <!-- <material name="orange"/> -->
    </visual>
    <collision>
      <origin rpy="0 1.5707963267948966 0" xyz="0 0 -0.1065"/>
      <geometry>
        <box size="0.213 0.016 0.016"/>
      </geometry>
    </collision>
    <inertial>
      <origin rpy="0 0 0" xyz="0.006197 0.001408 -0.116695"/>
      <mass value="0.135862"/>
      <inertia ixx="0.001088793059" ixy="-2.55679e-07" ixz="7.117814e-06" iyy="0.001100428748" iyz="2.077264e-06" izz="2.4787446e-05"/>
    </inertial>
  </link>
  <link name="RL_calf_rotor">
    <visual>
      <origin rpy="1.5707963267948966 0 0" xyz="0 0 0"/>
      <geometry>
        <cylinder length="0.02" radius="0.035"/>
      </geometry>
      <material name="green"/>
    </visual>
    <collision>
      <origin rpy="1.5707963267948966 0 0" xyz="0 0 0"/>
      <geometry>
        <cylinder length="0.02" radius="0.035"/>
      </geometry>
    </collision>
    <inertial>
      <origin rpy="0 0 0" xyz="0.0 0.0 0.0"/>
      <mass value="0.089"/>
      <inertia ixx="5.9647e-05" ixy="0.0" ixz="0.0" iyy="0.000111842" iyz="0.0" izz="5.9647e-05"/>
    </inertial>
  </link>
  <joint name="RL_foot_fixed" type="fixed">
    <origin rpy="0 0 0" xyz="0 0 -0.213"/>
    <parent link="RL_calf"/>
    <child link="RL_foot"/>
  </joint>
  <link name="RL_foot">
    <visual>
      <origin rpy="0 0 0" xyz="0 0 0"/>
      <geometry>
        <sphere radius="0.01"/>
      </geometry>
      <!-- <material name="orange"/> -->
    </visual>
    <collision>
      <origin rpy="0 0 0" xyz="0 0 0"/>
      <geometry>
        <sphere radius="0.02"/>
      </geometry>
    </collision>
    <inertial>
      <mass value="0.06"/>
      <inertia ixx="9.600000000000001e-06" ixy="0.0" ixz="0.0" iyy="9.600000000000001e-06" iyz="0.0" izz="9.600000000000001e-06"/>
    </inertial>
  </link>
  <transmission name="RL_hip_tran">
    <type>transmission_interface/SimpleTransmission</type>
    <joint name="RL_hip_joint">
      <hardwareInterface>hardware_interface/EffortJointInterface</hardwareInterface>
    </joint>
    <actuator name="RL_hip_motor">
      <hardwareInterface>hardware_interface/EffortJointInterface</hardwareInterface>
      <mechanicalReduction>1</mechanicalReduction>
    </actuator>
  </transmission>
  <transmission name="RL_thigh_tran">
    <type>transmission_interface/SimpleTransmission</type>
    <joint name="RL_thigh_joint">
      <hardwareInterface>hardware_interface/EffortJointInterface</hardwareInterface>
    </joint>
    <actuator name="RL_thigh_motor">
      <hardwareInterface>hardware_interface/EffortJointInterface</hardwareInterface>
      <mechanicalReduction>1</mechanicalReduction>
    </actuator>
  </transmission>
  <transmission name="RL_calf_tran">
    <type>transmission_interface/SimpleTransmission</type>
    <joint name="RL_calf_joint">
      <hardwareInterface>hardware_interface/EffortJointInterface</hardwareInterface>
    </joint>
    <actuator name="RL_calf_motor">
      <hardwareInterface>hardware_interface/EffortJointInterface</hardwareInterface>
      <mechanicalReduction>1</mechanicalReduction>
    </actuator>
  </transmission>
</robot>
